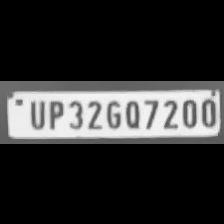0: (178, 96, 198, 128), (199, 96, 217, 127)
2: (159, 96, 179, 128), (84, 97, 102, 129)
3: (65, 97, 83, 128)
7: (140, 96, 158, 130)
G: (104, 97, 120, 128)
P: (44, 97, 64, 128)
Q: (122, 97, 140, 128)
U: (25, 97, 45, 128)
